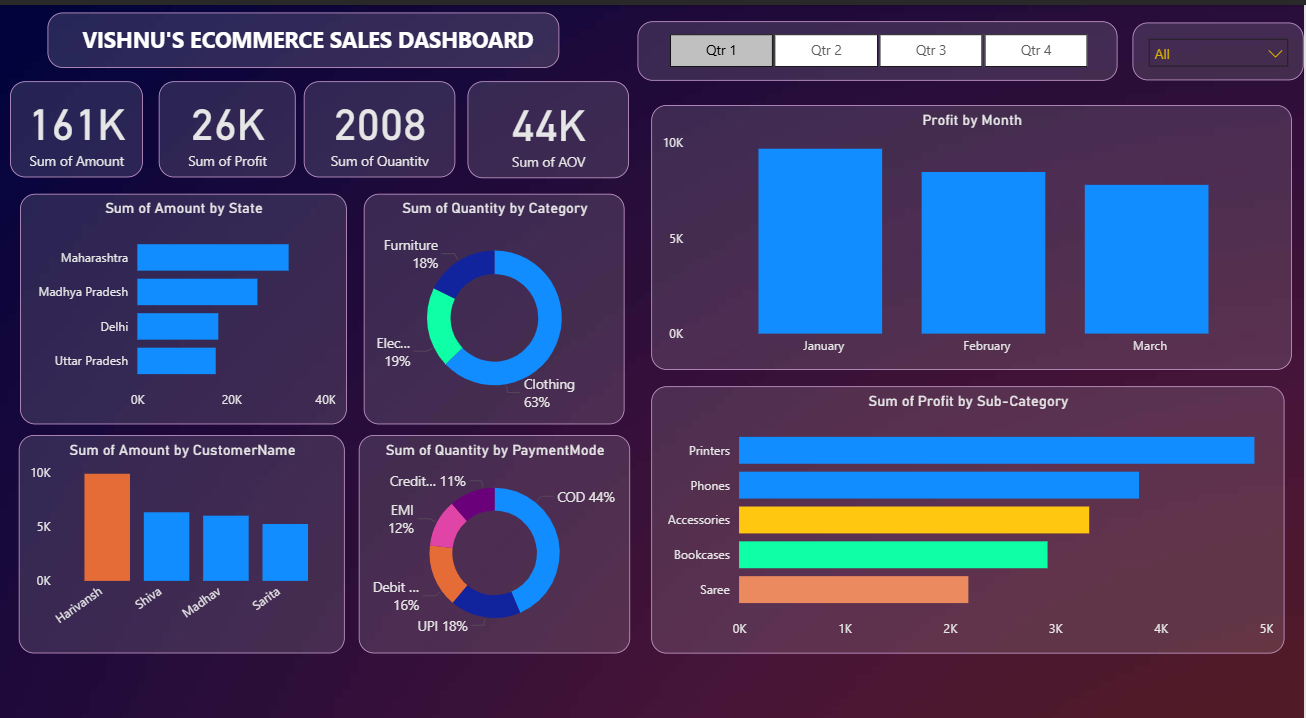

The dashboard page shown, as its layout file describes it:
{"tool":"powerbi","page":{"name":"Page 1","canvas":[1280,720],"ordinal":0},"visuals":[{"type":"textbox","box":[46.9,7.1,502,54.1],"z":0},{"type":"columnChart","title":"Profit by Month","fields":{"Category":["Orders.Order Date.Variation.Date Hierarchy.Month"],"Y":["Sum(Details.Profit)"]},"box":[639.8,98,628.6,260.2],"z":1000},{"type":"barChart","fields":{"Category":["Details.Sub-Category"],"Y":["Sum(Details.Profit)"]},"box":[639.8,374.5,621.4,262.2],"z":2000},{"type":"donutChart","fields":{"Category":["Details.Category"],"Y":["Sum(Details.Quantity)"]},"box":[357.1,184.7,256.1,226.5],"z":3000},{"type":"donutChart","fields":{"Category":["Details.PaymentMode"],"Y":["Sum(Details.Quantity)"]},"box":[352,422.4,266.3,214.3],"z":4000},{"type":"card","fields":{"Values":["Sum(Details.Amount)"]},"box":[10,74.3,130.6,94.4],"z":5000},{"type":"card","fields":{"Values":["Sum(Details.Quantity)"]},"box":[298.4,74.3,148.7,94.4],"z":6000},{"type":"card","fields":{"Values":["Sum(Details.Profit)"]},"box":[155.7,74.3,134.6,94.4],"z":7000},{"type":"card","fields":{"Values":["Sum(Details.AOV)"]},"box":[459.2,74.3,158.7,95.4],"z":8000},{"type":"barChart","fields":{"Category":["Orders.State"],"Y":["Sum(Details.Amount)"]},"box":[19.4,184.7,320.4,226.5],"z":9000},{"type":"columnChart","fields":{"Category":["Orders.CustomerName"],"Y":["Sum(Details.Amount)"]},"box":[19,422,320,214],"z":10000},{"type":"slicer","fields":{"Values":["Orders.Order Date.Variation.Date Hierarchy.Quarter"]},"box":[625.5,16.3,471.4,58.2],"z":11000},{"type":"slicer","fields":{"Values":["Orders.State"]},"box":[1111.2,17.3,168.4,57.1],"z":12000}]}

Visuals, with their boxes in screenshot pixels (x1, y1, x2, y2), scaled from the page's 1280x720 canvas onto the 1306x718 screenshot:
textbox: crop(48, 7, 560, 61)
"Profit by Month" columnChart: crop(653, 98, 1294, 357)
barChart - Details.Sub-Category x Sum(Details.Profit): crop(653, 373, 1287, 635)
donutChart - Details.Category x Sum(Details.Quantity): crop(364, 184, 626, 410)
donutChart - Details.PaymentMode x Sum(Details.Quantity): crop(359, 421, 631, 635)
card - Sum(Details.Amount): crop(10, 74, 143, 168)
card - Sum(Details.Quantity): crop(304, 74, 456, 168)
card - Sum(Details.Profit): crop(159, 74, 296, 168)
card - Sum(Details.AOV): crop(469, 74, 630, 169)
barChart - Orders.State x Sum(Details.Amount): crop(20, 184, 347, 410)
columnChart - Orders.CustomerName x Sum(Details.Amount): crop(19, 421, 346, 634)
slicer - Orders.Order Date.Variation.Date Hierarchy.Quarter: crop(638, 16, 1119, 74)
slicer - Orders.State: crop(1134, 17, 1305, 74)
